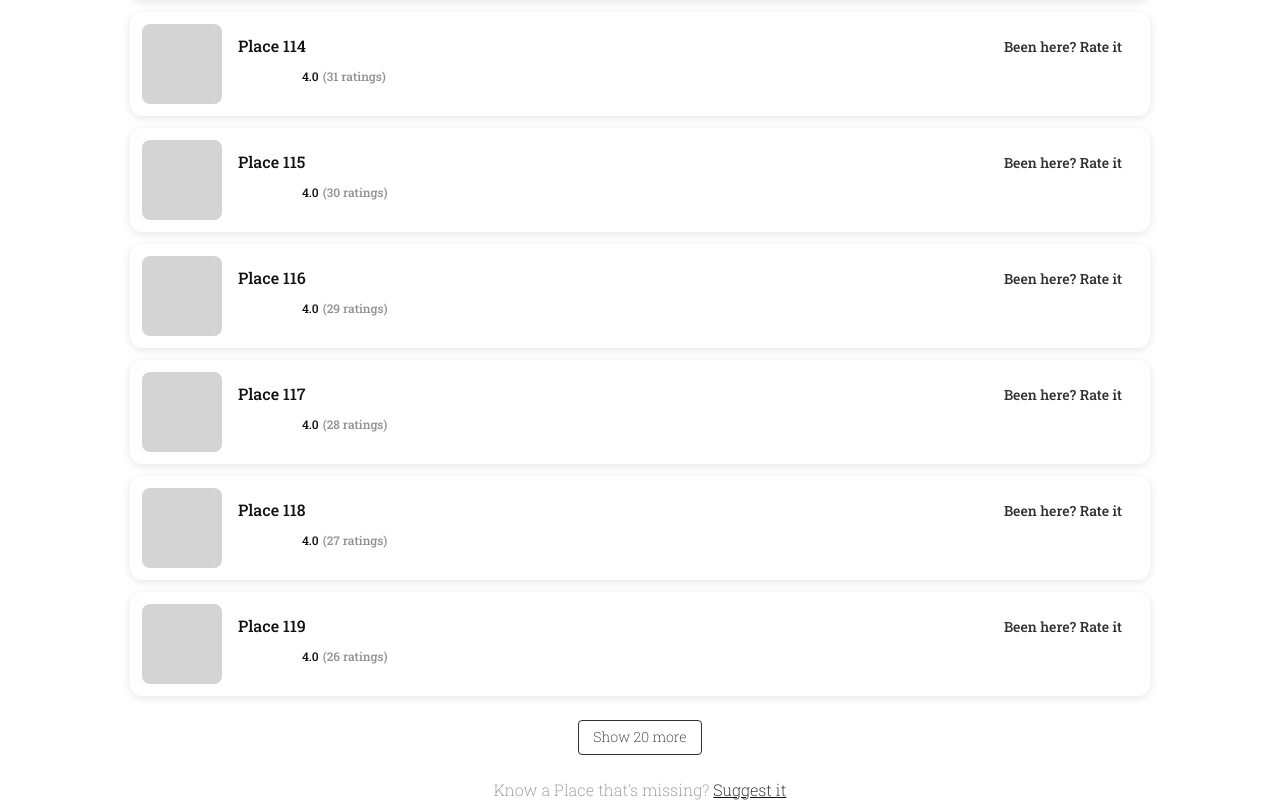
Scenario: NeighborhoodPage › shows 20 Places at first and the next 20 on "Show 20 more"
(page scrolled)
Click the button "Show 20 more" at (640, 737), box [578,720,702,755]
(page scrolled)
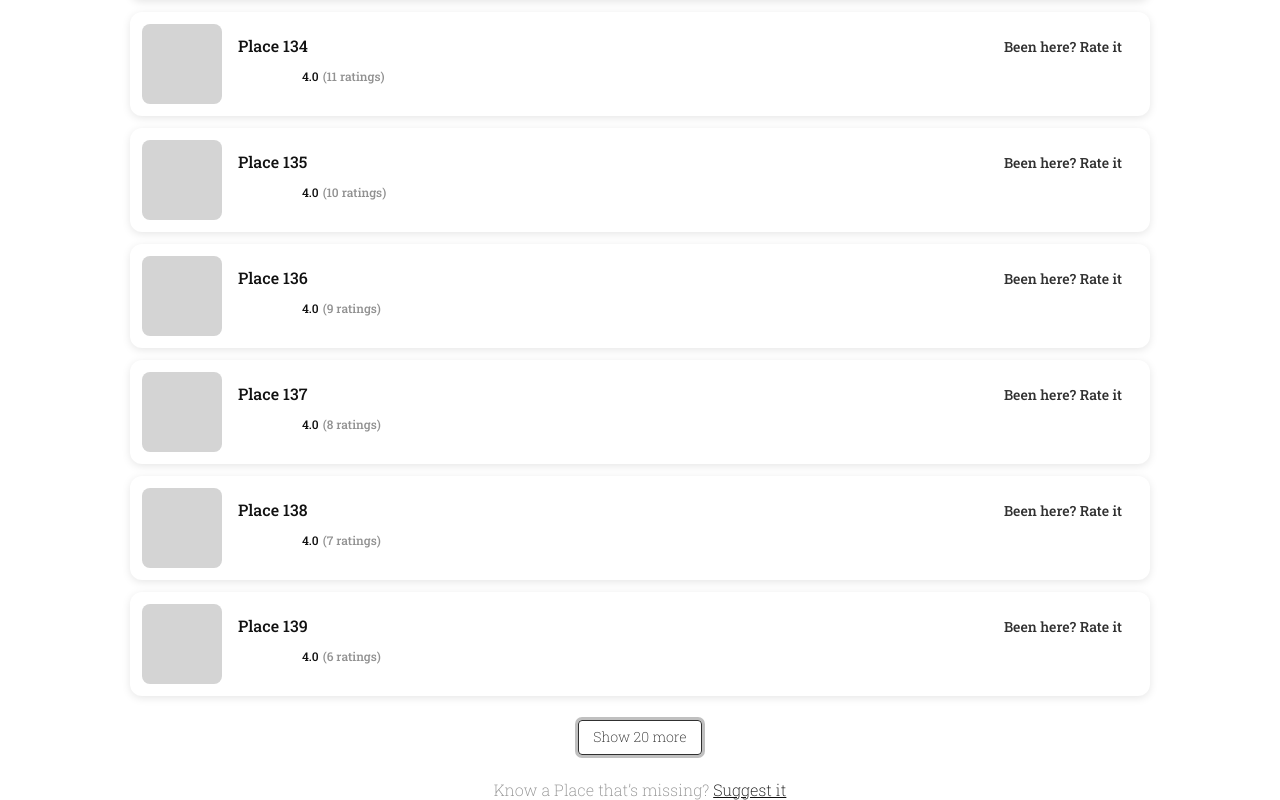
Click the button "Show 20 more" at (640, 737), box [578,720,702,755]
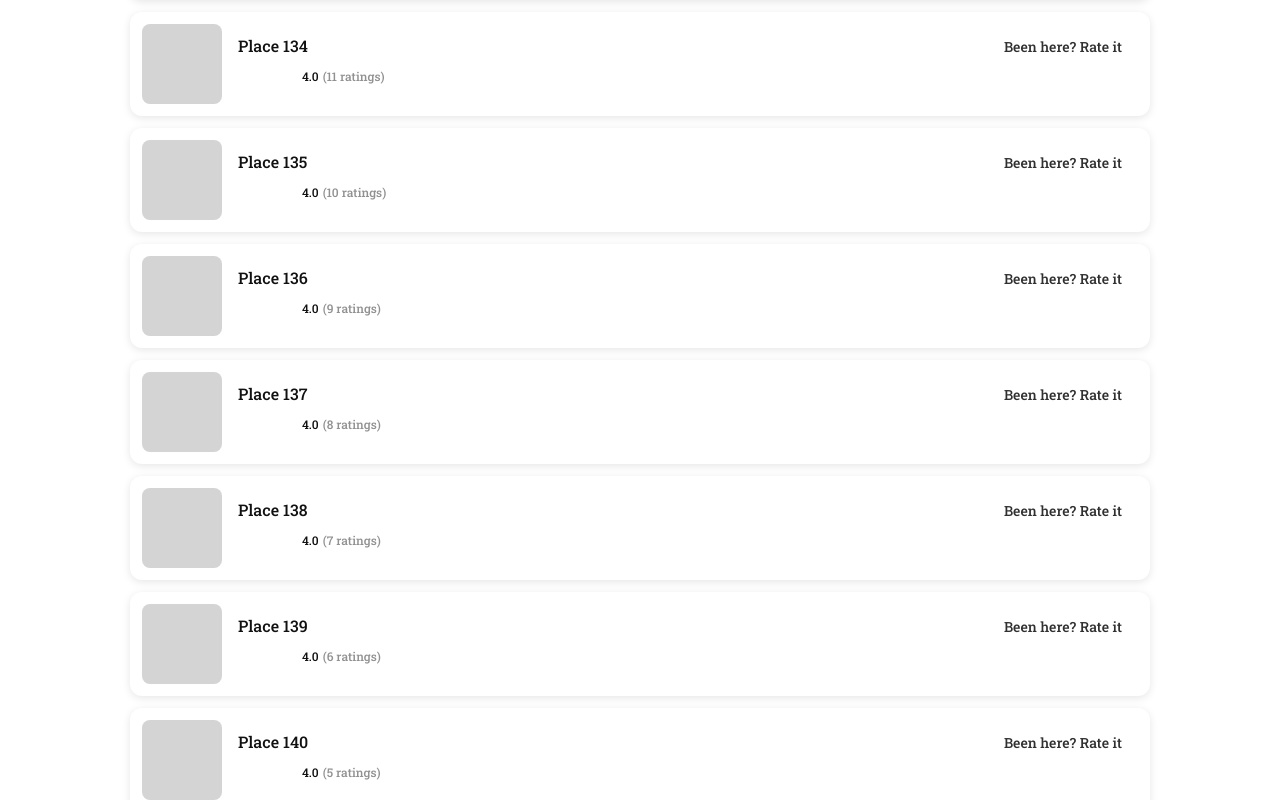
Now the button "Show 20 more" is gone
